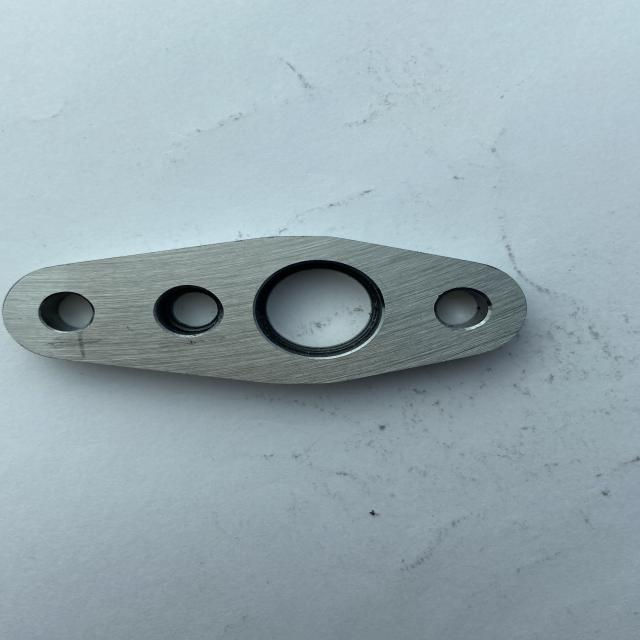lines: (44, 336, 110, 350), (153, 338, 218, 350), (72, 333, 100, 357)
